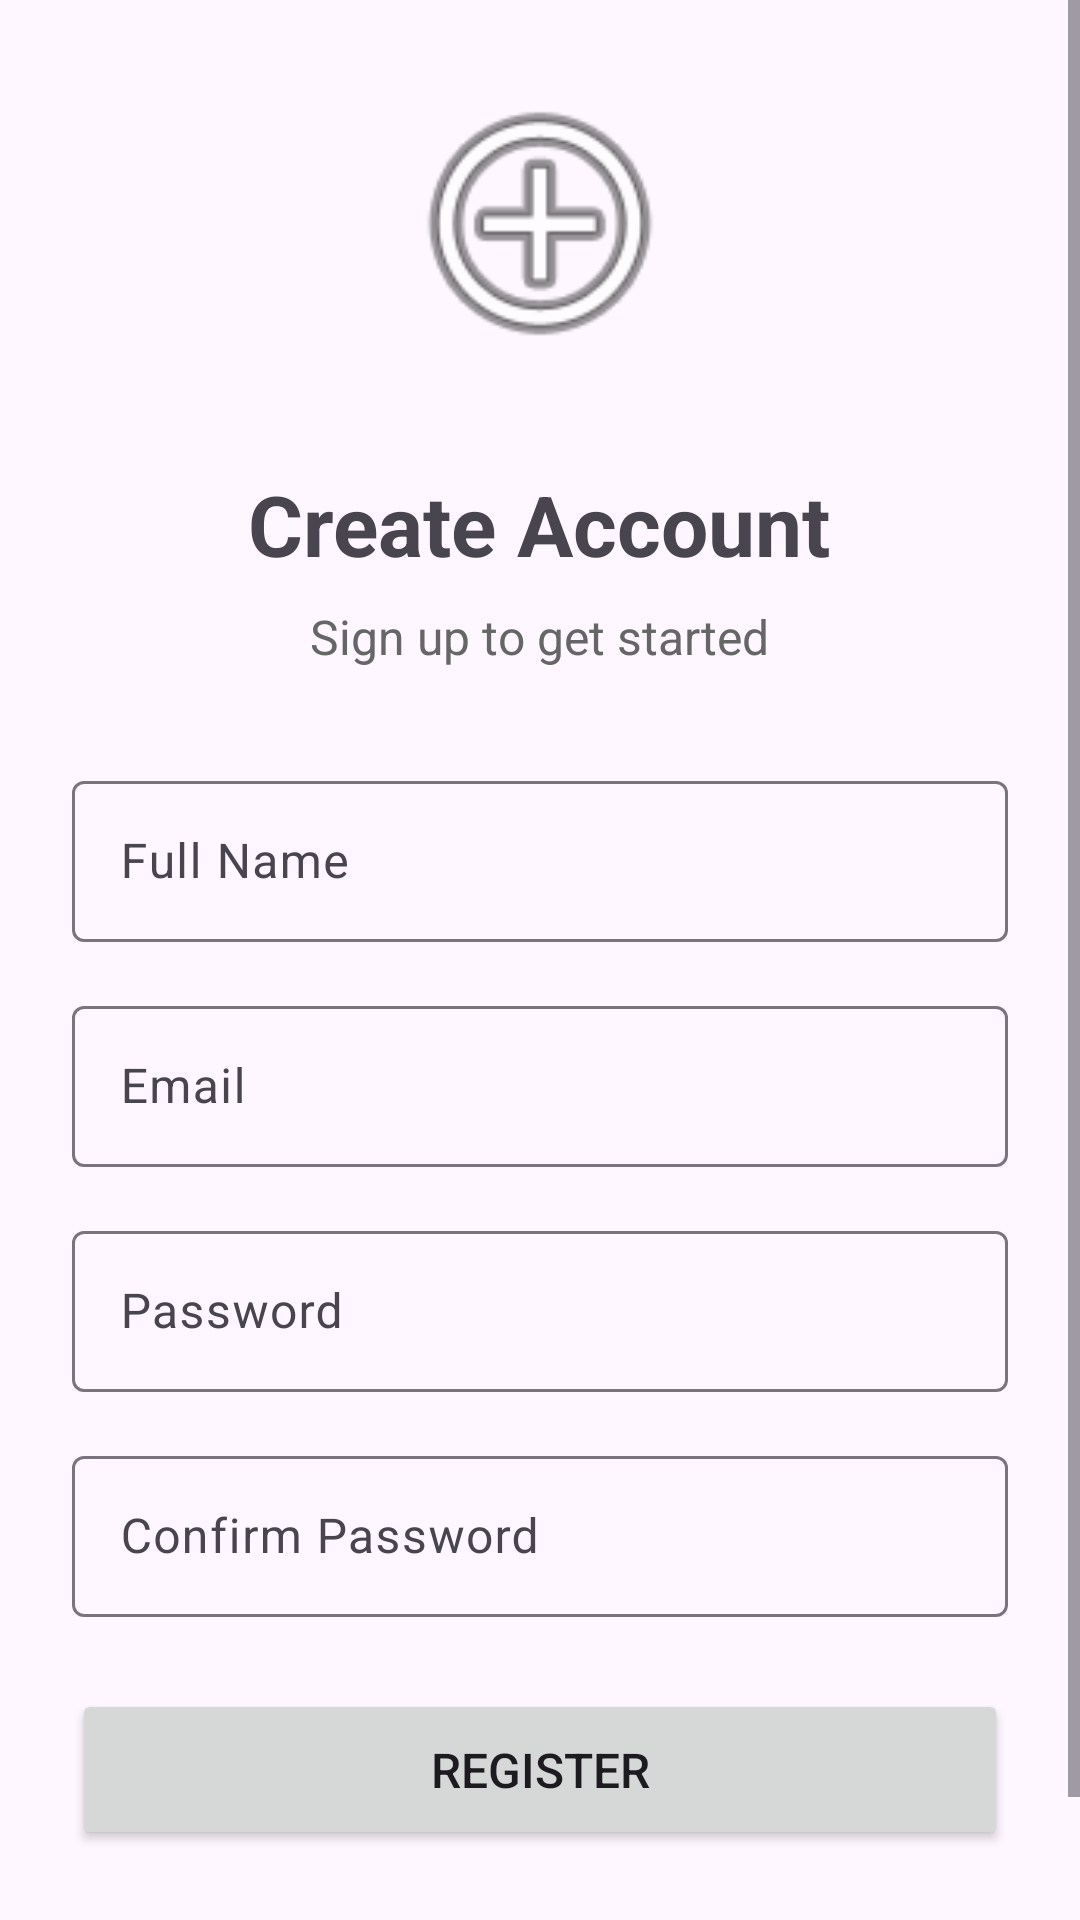

Icons on this 1080px×1920px Android screen, each with its box as {"left": x1, "top": y1, "right": x2, "bottom": y2}:
add: {"left": 428, "top": 112, "right": 652, "bottom": 335}
